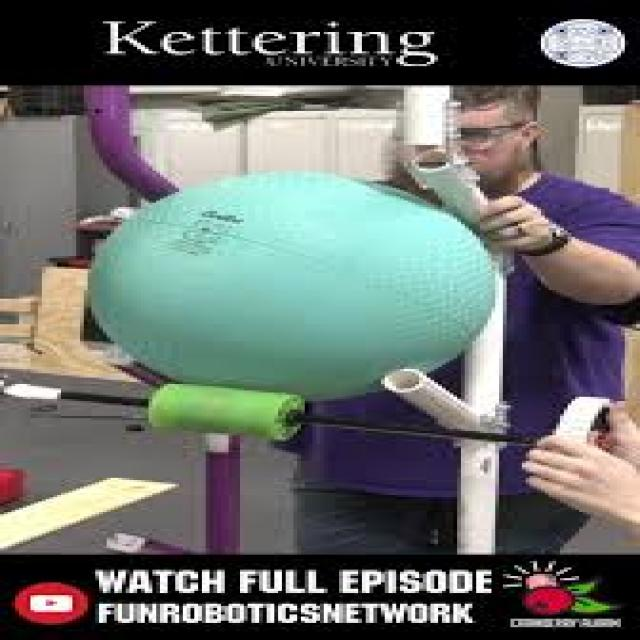algae: (84, 171, 499, 403)
